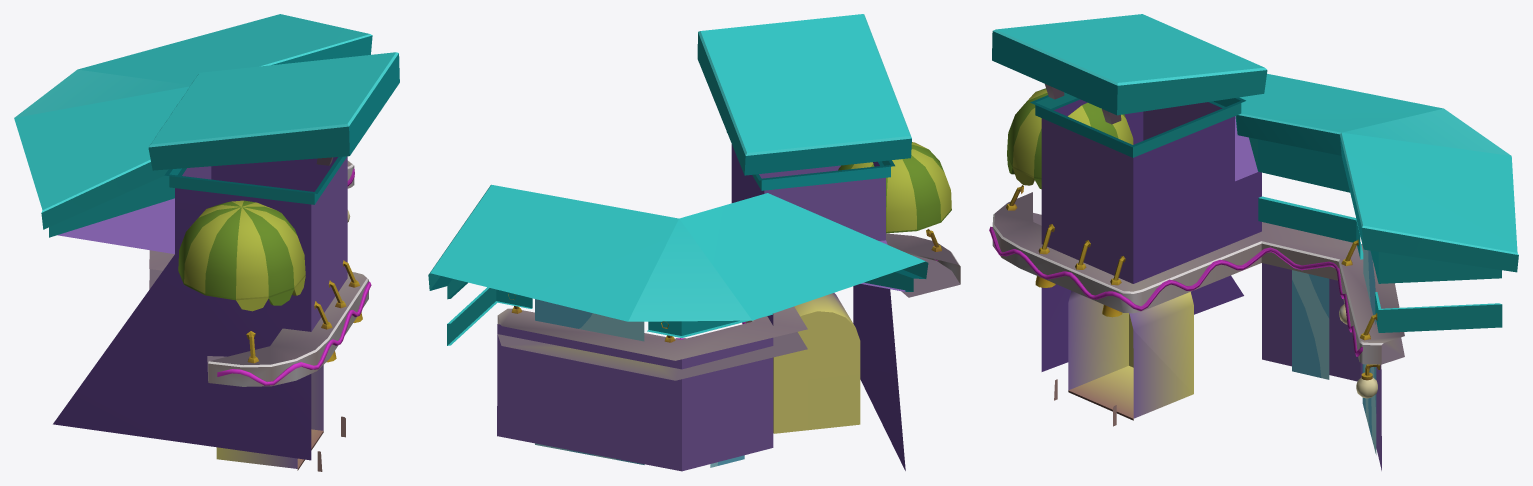
Rendered from ClothingBuilding.fbx.
3 renders of one model, left to right at view 1: azimuth 30°, elevation 25°; view 2: azimuth 150°, elevation 25°; view 3: azimuth 270°, elevation 25°, orthographic. The views are drawn at different scales.
Parts seen in each view (by area): view 1: ClothingBuilding; view 2: ClothingBuilding; view 3: ClothingBuilding.
Boxes of the visible parts, x1,y1,x2,y2 form: ClothingBuilding: (14,14,399,471); ClothingBuilding: (428,14,960,471); ClothingBuilding: (989,14,1518,470).
Size of the model in its own units: 817 by 730 by 949.
